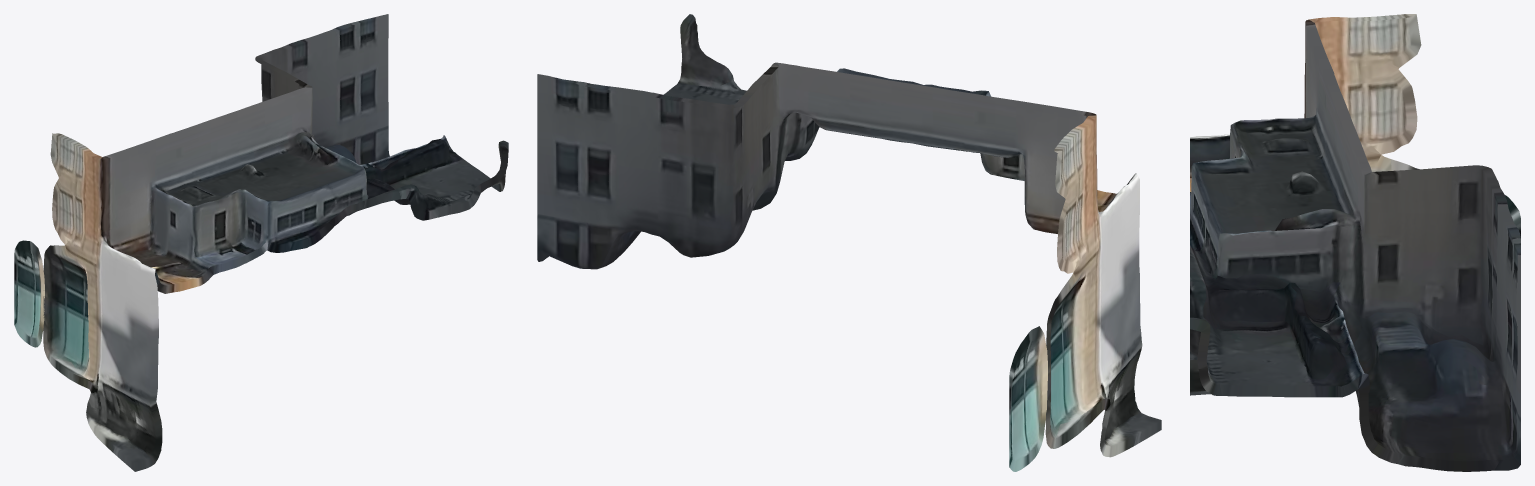
Rendered from z20-167758-405237-h0-yup-uvflip-v3-world.glb.
3 renders of one model, left to right at view 1: azimuth 30°, elevation 25°; view 2: azimuth 150°, elevation 25°; view 3: azimuth 270°, elevation 25°, orthographic. The views are drawn at different scales.
Bounding box in the file's own units: 30.16 × 21.48 × 16.88.
Materials: 1 (1 with a texture image).
